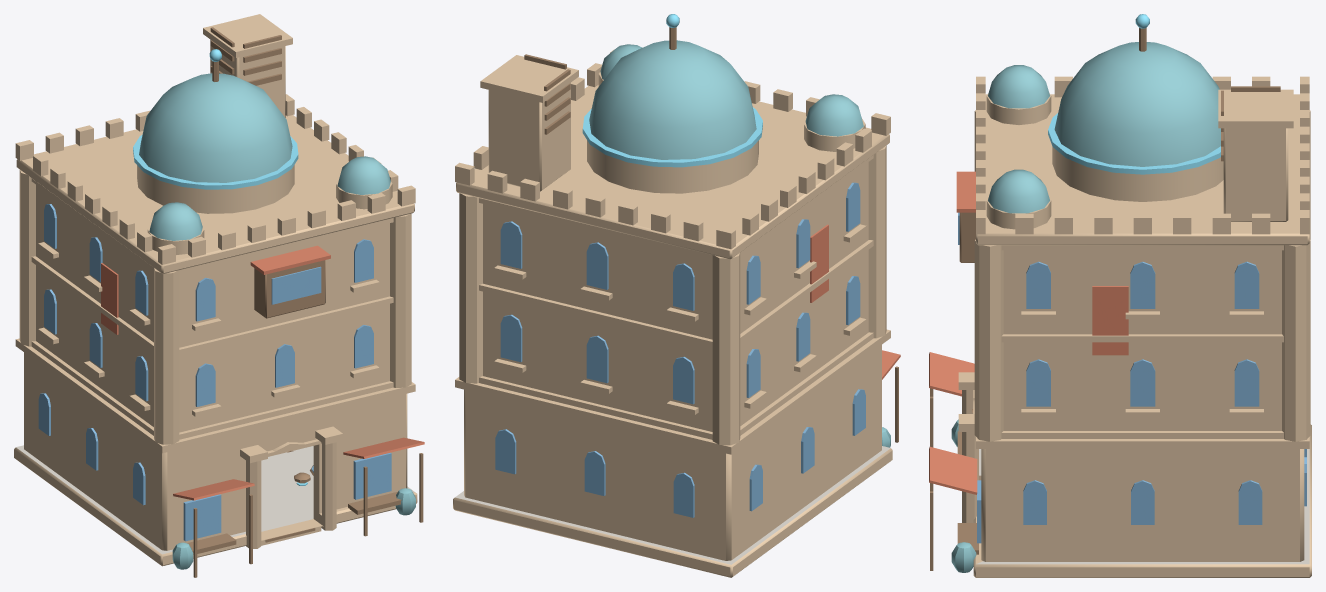
Rendered from SirocoBloque.fbx.
3 views of the same model, side by side, from view 1: azimuth 30°, elevation 25°; view 2: azimuth 150°, elevation 25°; view 3: azimuth 270°, elevation 25° (orthographic). The views are drawn at different scales.
Parts seen in each view (by area): view 1: SirocoBloque_Medio_Cuerpo, SirocoBloque_Base_Cuerpo, SirocoBloque_Tope_Cuerpo, SirocoBloque_Tope_Techo, SirocoBloque_Medio_Cristal, SirocoBloque_Base_Forro, SirocoBloque_Base_Cristal, SirocoBloque_Base_Metal, SirocoBloque_Medio_Toldo, SirocoBloque_Medio_Metal, SirocoBloque_Tope_Luz, SirocoBloque_Base_Toldo (+2 smaller); view 2: SirocoBloque_Medio_Cuerpo, SirocoBloque_Base_Cuerpo, SirocoBloque_Tope_Cuerpo, SirocoBloque_Tope_Techo, SirocoBloque_Medio_Cristal, SirocoBloque_Base_Cristal, SirocoBloque_Tope_Luz, SirocoBloque_Base_Forro, SirocoBloque_Tope_Metal, SirocoBloque_Medio_Toldo; view 3: SirocoBloque_Medio_Cuerpo, SirocoBloque_Base_Cuerpo, SirocoBloque_Tope_Cuerpo, SirocoBloque_Tope_Techo, SirocoBloque_Medio_Cristal, SirocoBloque_Base_Cristal, SirocoBloque_Medio_Toldo, SirocoBloque_Base_Toldo, SirocoBloque_Tope_Luz, SirocoBloque_Base_Forro, SirocoBloque_Base_Metal, SirocoBloque_Medio_Metal (+2 smaller).
Boxes of the visible parts, x1,y1,x2,y2 form: SirocoBloque_Medio_Cuerpo: [19, 170, 411, 444]; SirocoBloque_Base_Cuerpo: [14, 338, 417, 566]; SirocoBloque_Tope_Cuerpo: [15, 14, 415, 273]; SirocoBloque_Tope_Techo: [139, 73, 390, 240]; SirocoBloque_Medio_Cristal: [44, 204, 373, 406]; SirocoBloque_Base_Forro: [16, 445, 415, 554]; SirocoBloque_Base_Cristal: [38, 393, 391, 541]; SirocoBloque_Base_Metal: [187, 450, 423, 577]; SirocoBloque_Medio_Toldo: [101, 245, 330, 334]; SirocoBloque_Medio_Metal: [254, 260, 325, 318]; SirocoBloque_Tope_Luz: [133, 49, 298, 189]; SirocoBloque_Base_Toldo: [173, 437, 424, 500]; SirocoBloque_Medio_Cuerpo: [459, 145, 886, 445]; SirocoBloque_Base_Cuerpo: [453, 329, 892, 577]; SirocoBloque_Tope_Cuerpo: [455, 49, 890, 259]; SirocoBloque_Tope_Techo: [589, 40, 863, 159]; SirocoBloque_Medio_Cristal: [500, 182, 860, 404]; SirocoBloque_Base_Cristal: [495, 389, 865, 517]; SirocoBloque_Tope_Luz: [582, 14, 762, 167]; SirocoBloque_Base_Forro: [455, 446, 890, 564]; SirocoBloque_Tope_Metal: [524, 27, 676, 134]; SirocoBloque_Medio_Toldo: [810, 224, 828, 302]; SirocoBloque_Medio_Cuerpo: [974, 110, 1310, 441]; SirocoBloque_Base_Cuerpo: [958, 372, 1311, 577]; SirocoBloque_Tope_Cuerpo: [976, 76, 1309, 245]; SirocoBloque_Tope_Techo: [988, 42, 1220, 213]; SirocoBloque_Medio_Cristal: [958, 212, 1259, 406]; SirocoBloque_Base_Cristal: [977, 449, 1306, 543]; SirocoBloque_Medio_Toldo: [956, 171, 1128, 355]; SirocoBloque_Base_Toldo: [929, 352, 977, 494]; SirocoBloque_Tope_Luz: [1048, 14, 1220, 174]; SirocoBloque_Base_Forro: [976, 449, 1309, 564]; SirocoBloque_Base_Metal: [930, 388, 978, 570]; SirocoBloque_Medio_Metal: [959, 212, 975, 262].
Bounding box in the file's own units: 3140 × 5086 × 3555.
